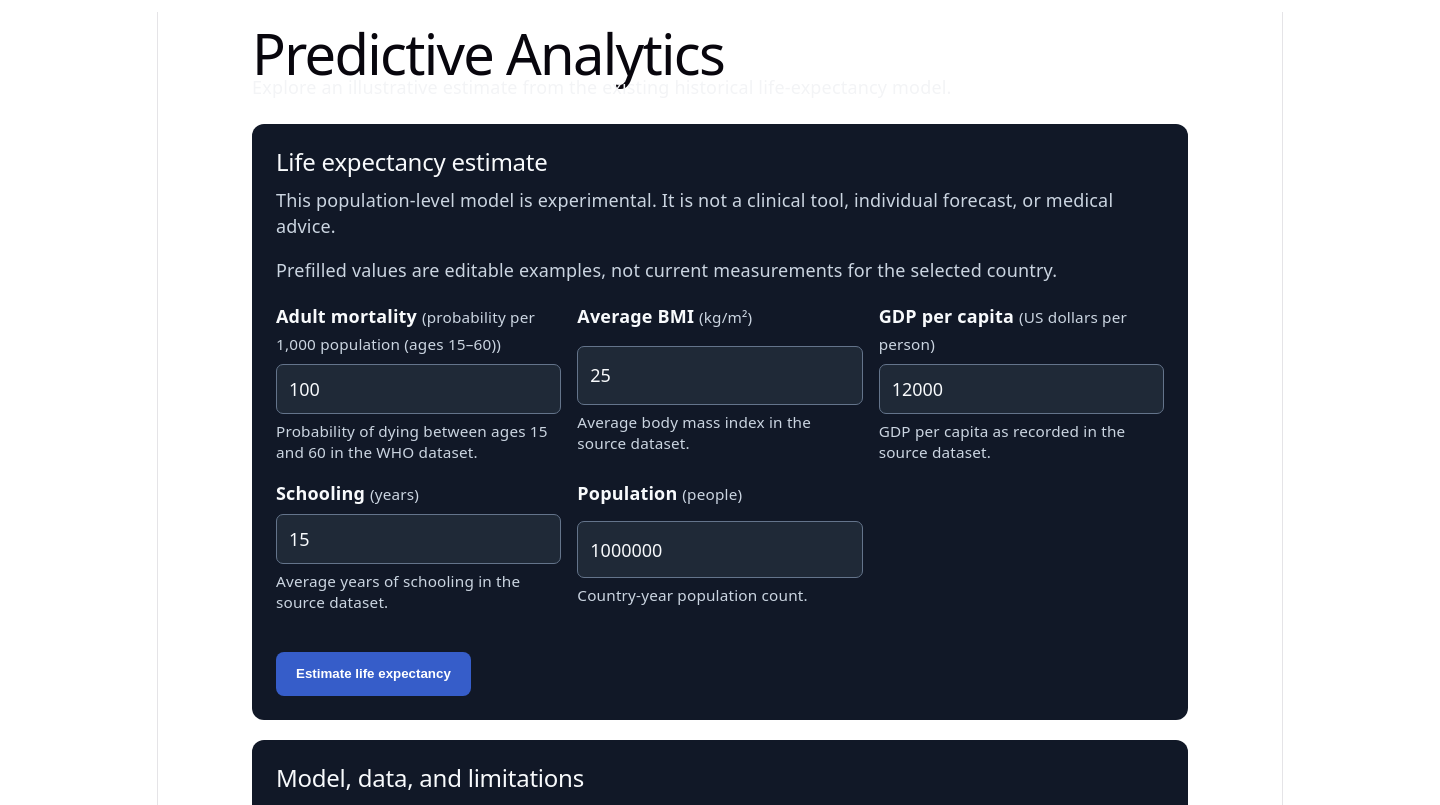
Test: PredictiveAnalytics › reports an unexpected prediction response instead of rendering it
The image size is (1440, 805).
Click the button "Estimate life expectancy".
click(373, 674)  # box x1=276 y1=652 x2=471 y2=696
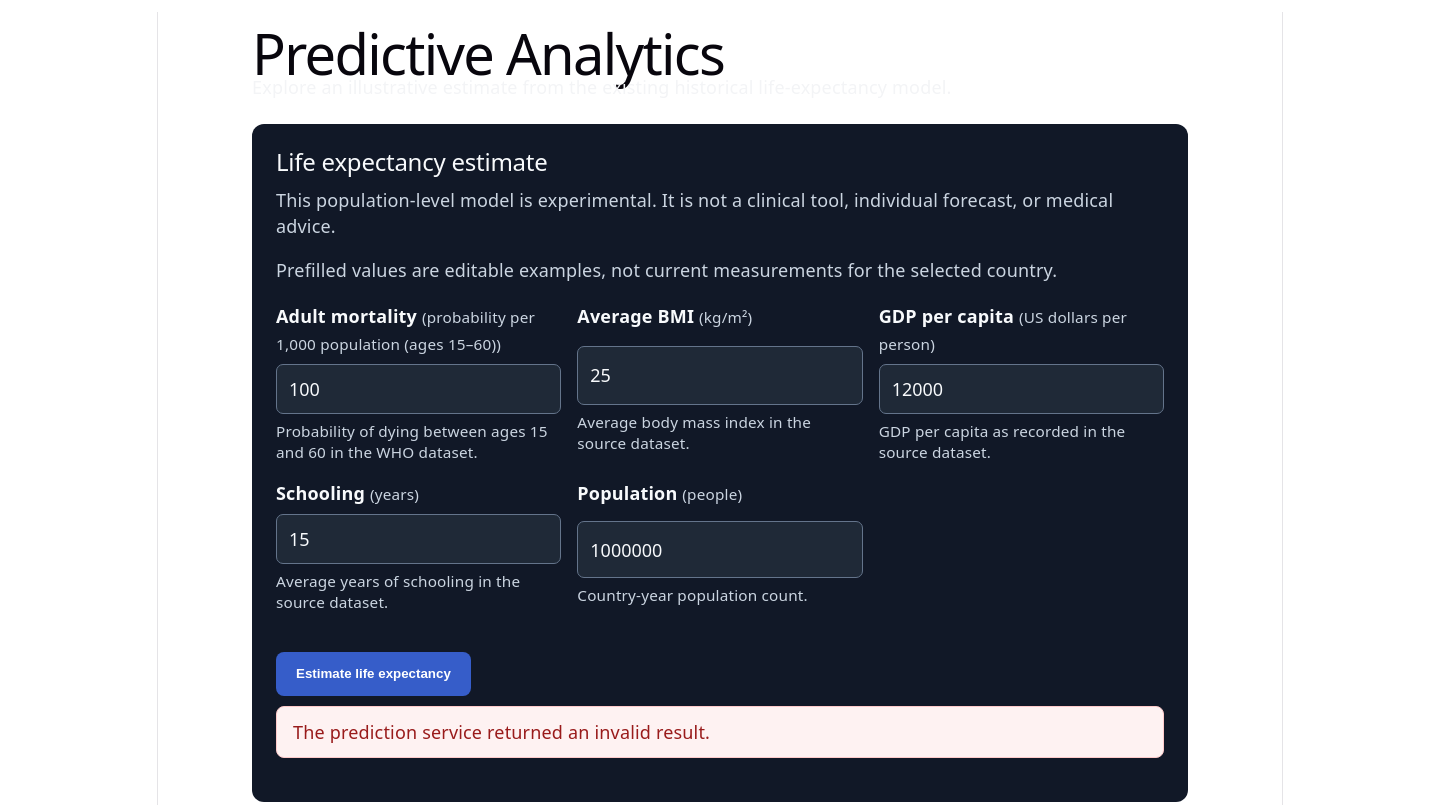
Expected: the message reads "The prediction service returned an invalid result.", x1=293 y1=720 x2=710 y2=744
